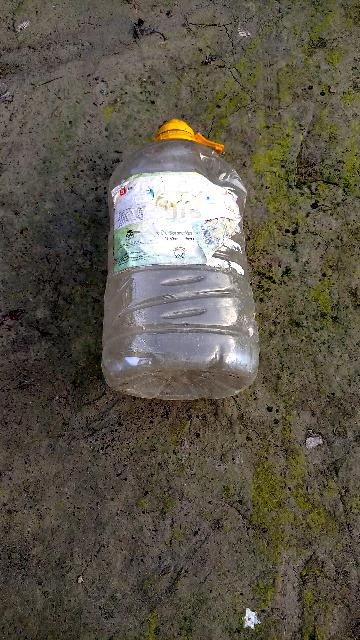bottle: (112, 126, 265, 400)
